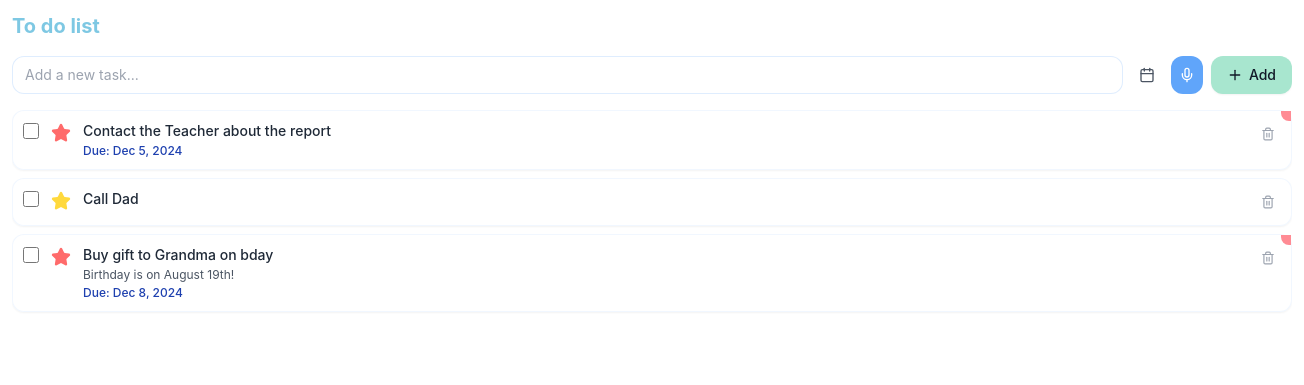
Test: TodoList Component › should add a new task when clicking add button
Type "New Test Task" into the field with placeholder "Add a new task...". click: (567, 75)
box: [12,56,1123,94]
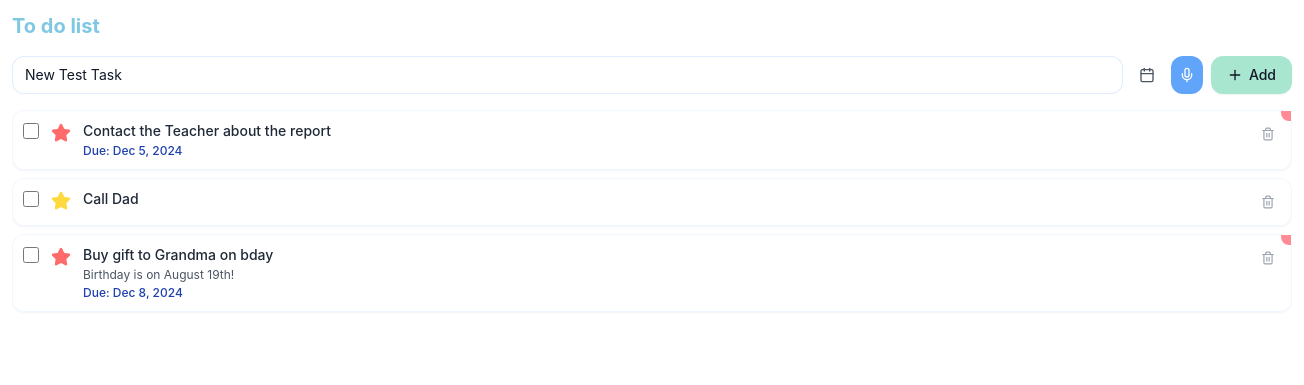
Click the button "Add". click: (1251, 75)
box: [1211,56,1292,94]
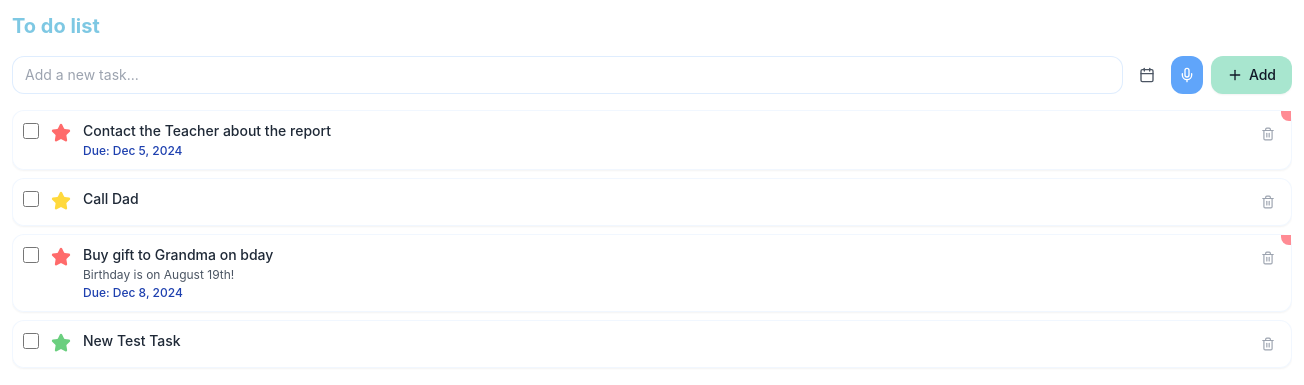
Check: the heading "New Test Task" is shown, box [83,332,181,349]
